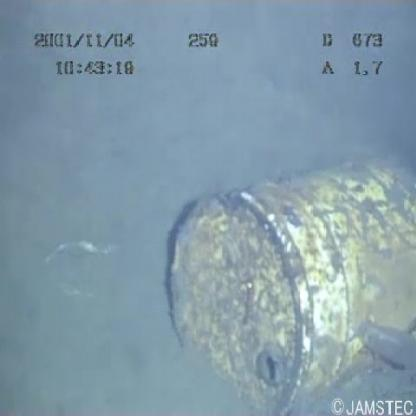Rác: (131, 149, 416, 405)
